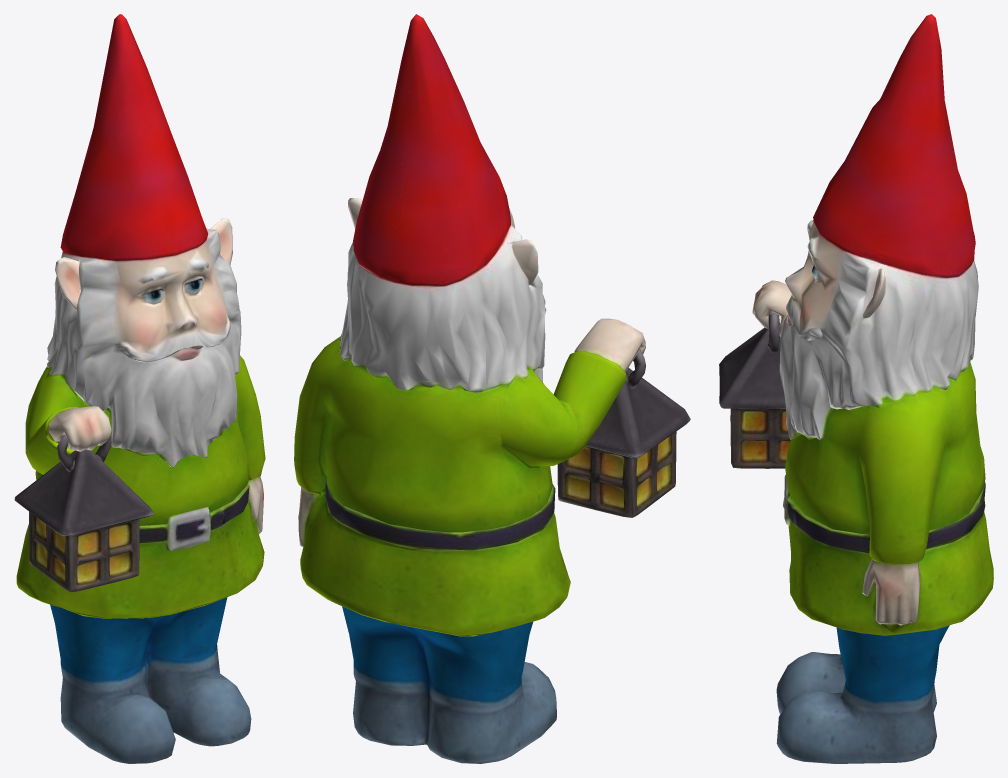
File: garden_gnome.glb
3 views of the same model, side by side, from view 1: azimuth 30°, elevation 25°; view 2: azimuth 150°, elevation 25°; view 3: azimuth 270°, elevation 25° (orthographic). The views are drawn at different scales.
Parts seen in each view (by area): view 1: garden_gnome_01; view 2: garden_gnome_01; view 3: garden_gnome_01.
Boxes of the visible parts, x1=… form: garden_gnome_01: x1=14, y1=14, x2=265, y2=763; garden_gnome_01: x1=294, y1=14, x2=690, y2=763; garden_gnome_01: x1=719, y1=14, x2=993, y2=763.
Size of the model in its own units: 0.2577 by 0.599 by 0.209.
1 material, 1 textured.
